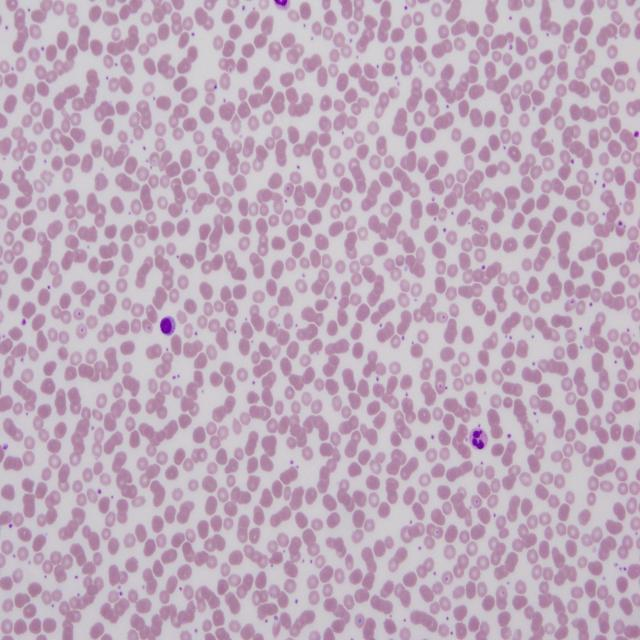cell: (470, 427, 488, 449)
